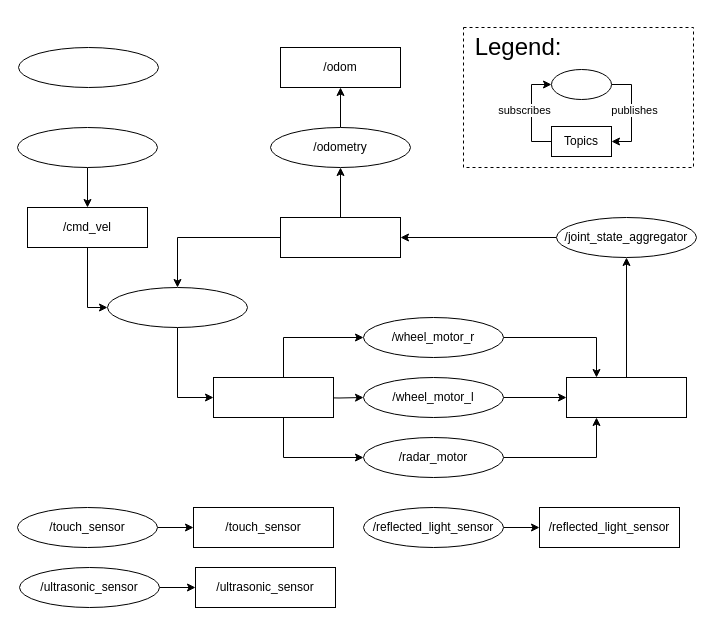
Image size: 714x625. Some labels were removed from this diagram. Here are the shapes that lost their labels. From the top down, the centre of each, then its label:
(88,67): /nxt_ros_setup
(581,84): Nodes
(87,147): /teleop
(340,237): /joint_states
(177,307): /diff_drive_controller
(273,397): /joint_effort
(626,397): /joint_state
